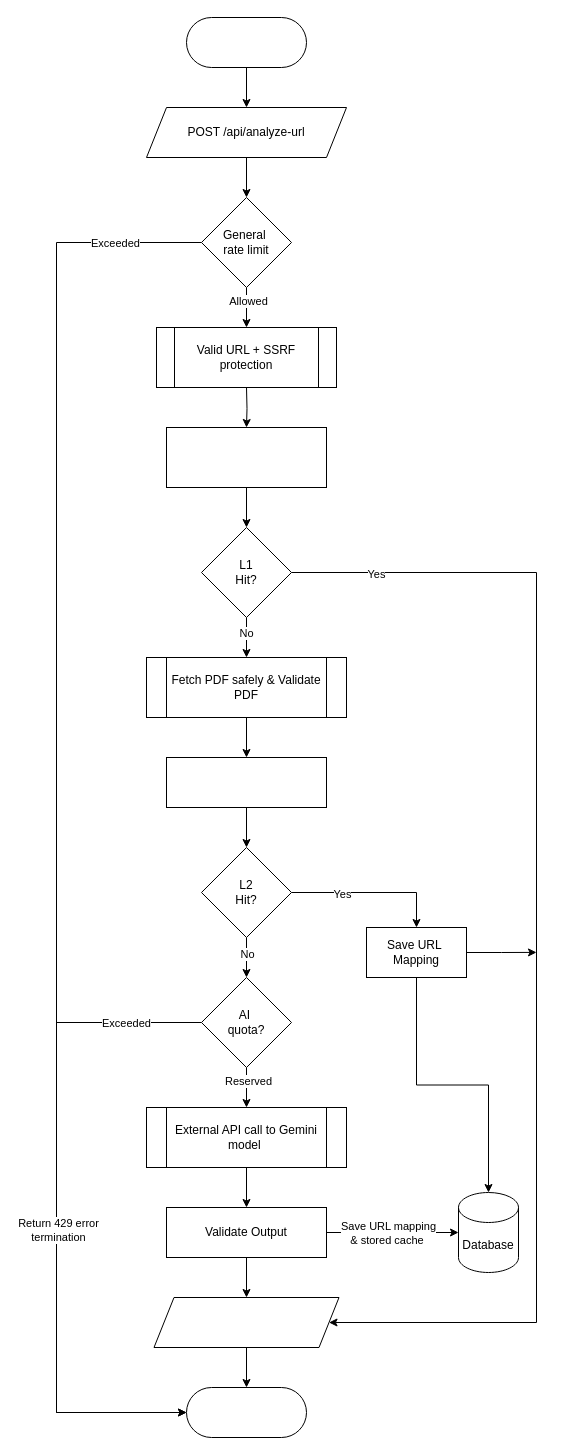
Image size: 562x1455. Some labels were removed from this diagram. Here are the shapes that lost their labels. From the top down, the box of each, then its label:
(186, 16, 306, 68): Start
(166, 426, 326, 488): Normalize URL & SHA-256 (normalized URL)
(166, 756, 326, 808): SHA-256 (PDF bytes)
(153, 1296, 339, 1348): Show Response
(186, 1386, 306, 1438): End
